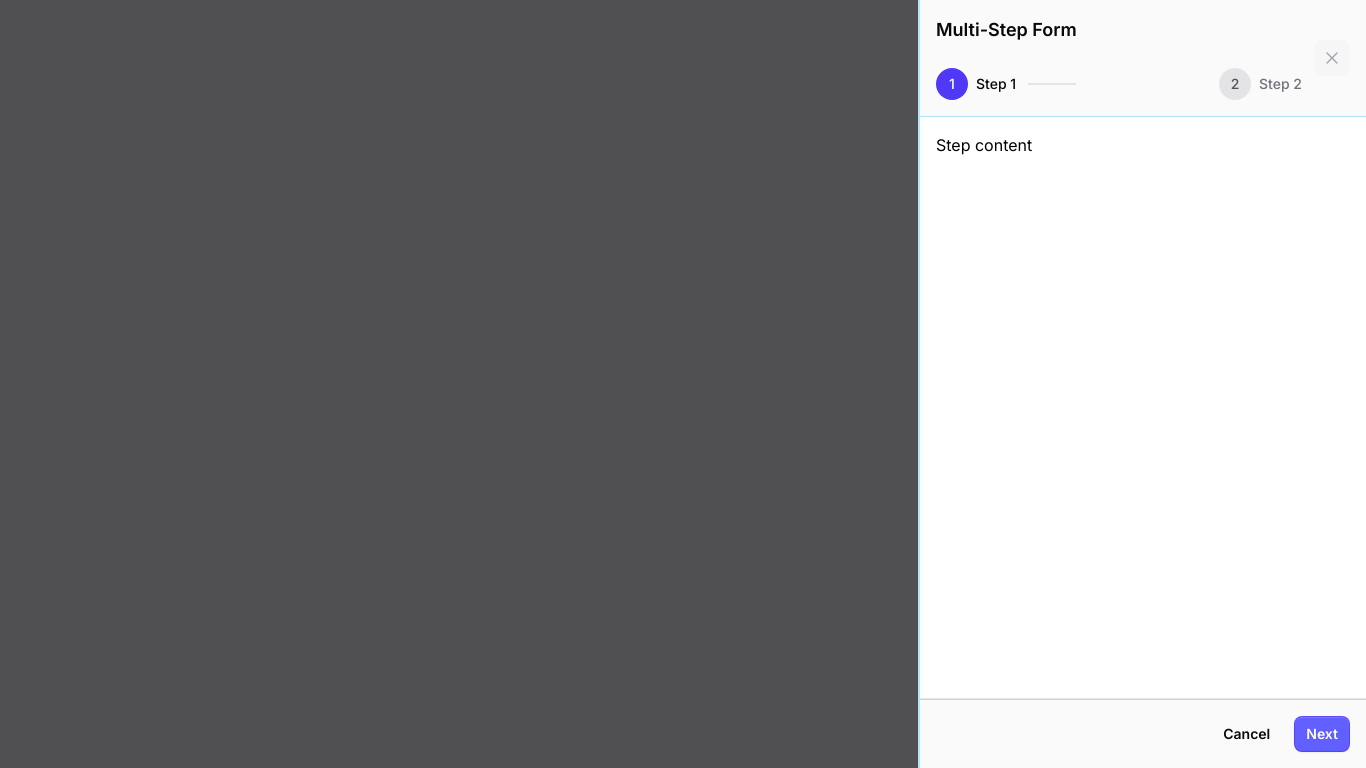
it: Drawer ConsentModal Integration › DrawerMultiStep with isDirty › should show consent modal when closing with unsaved changes
The image size is (1366, 768).
# Click the X button to close
Click the button named "close drawer" at (1332, 58), box [1314,40,1350,76]
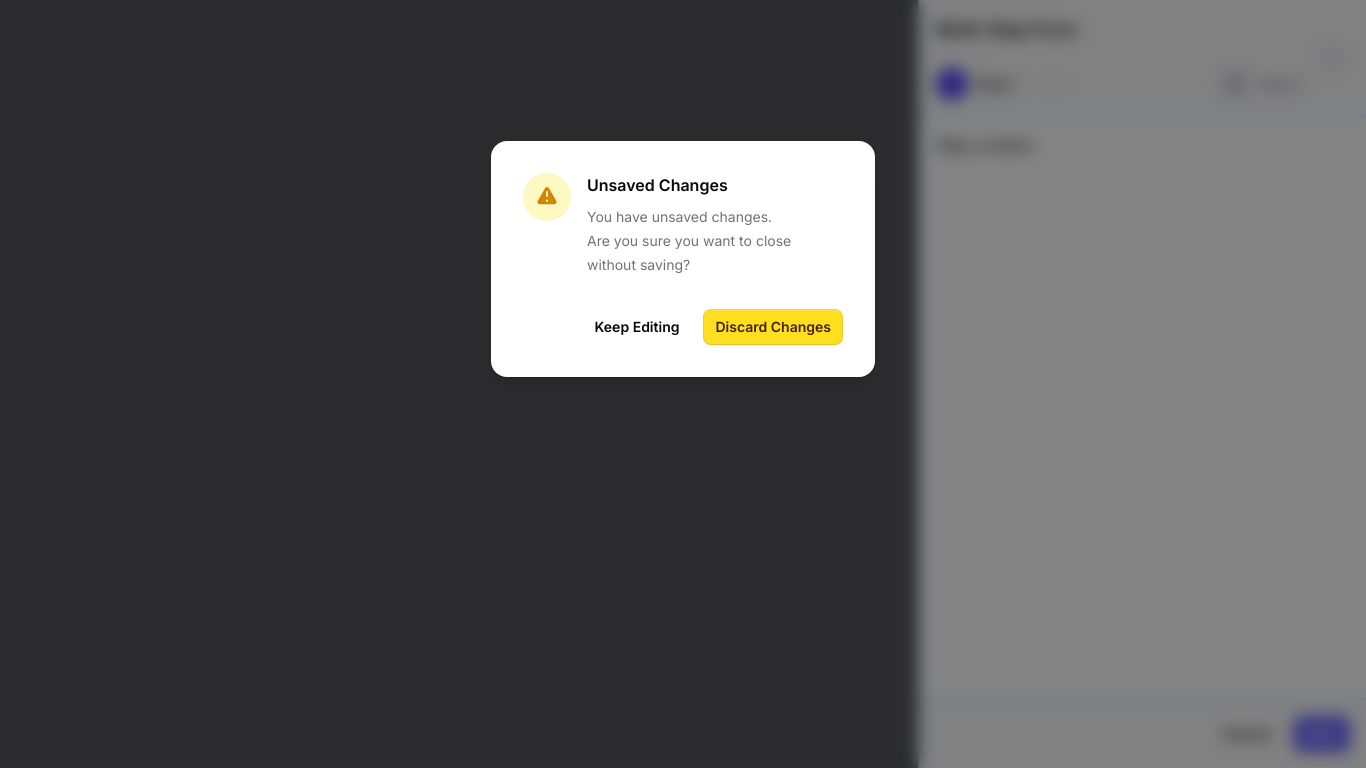
Expected: the heading "Unsaved Changes" is shown, [587,175,728,195]
